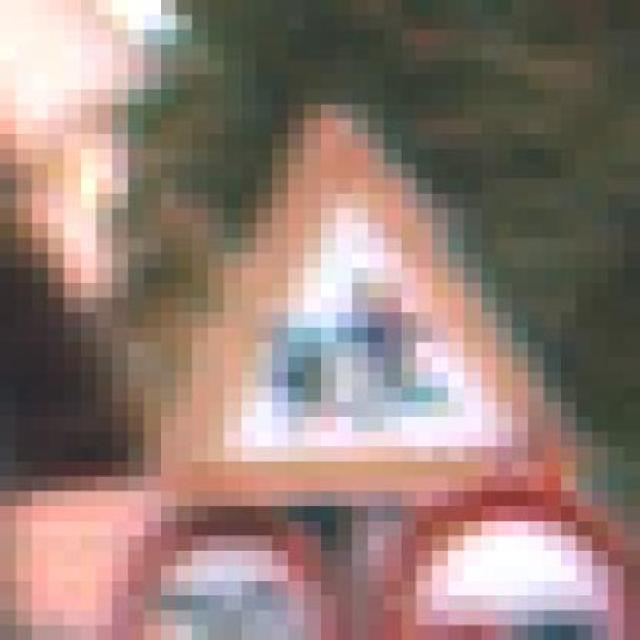Beware of children: (112, 74, 592, 506)
